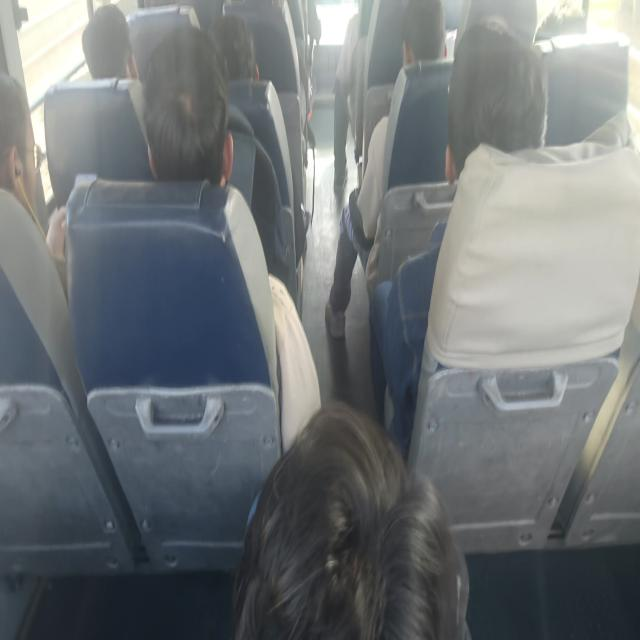person: (243, 377, 485, 599), (433, 20, 546, 188), (150, 52, 232, 187), (0, 77, 41, 202), (82, 0, 136, 86), (389, 11, 455, 78), (207, 13, 269, 77), (535, 0, 593, 37)
